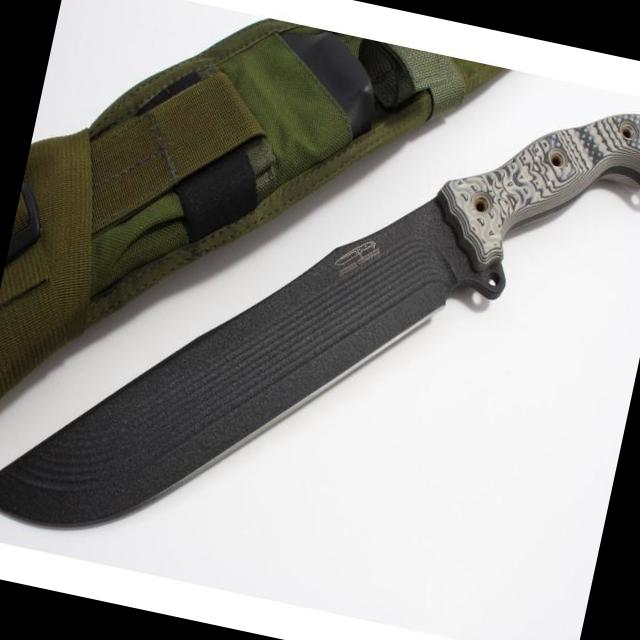Knife: (0, 113, 640, 526)
